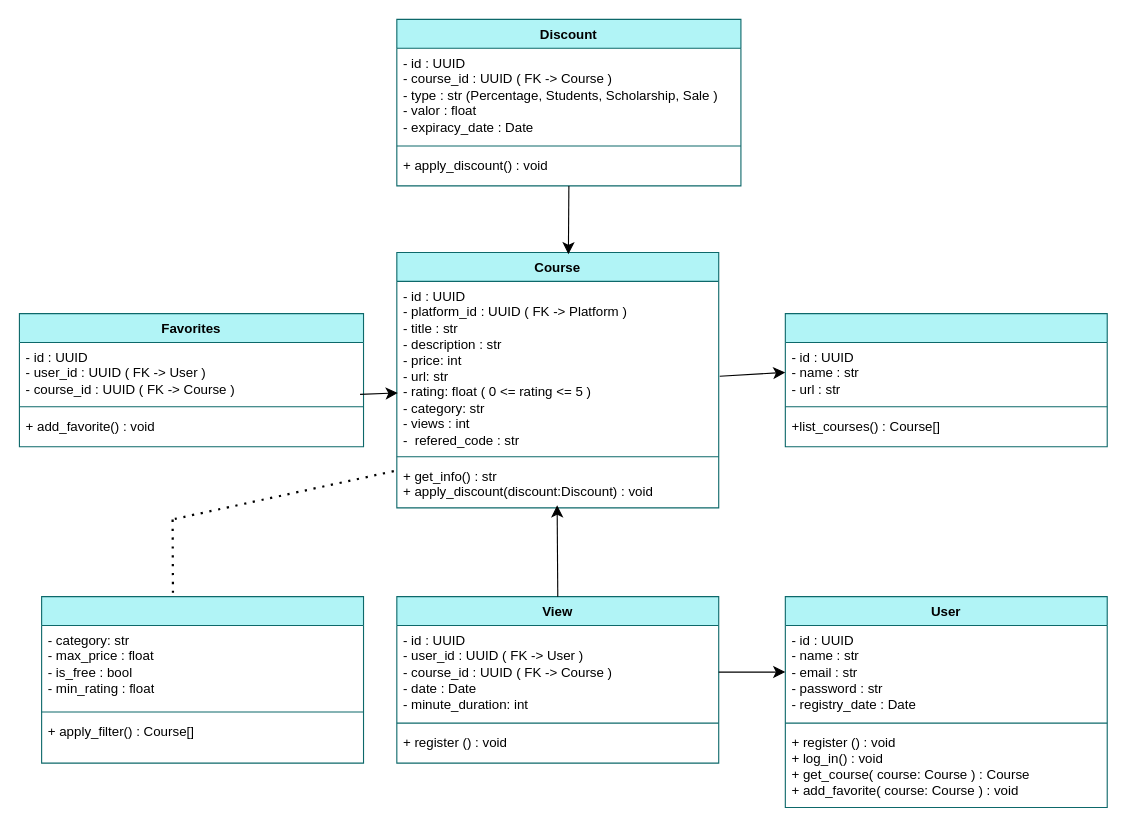
This 1127x830 diagram has some shape labels left out. Here are the shapes that lost their labels. From the top down, the box of each, then its label:
(784, 312, 1107, 447): Platform
(41, 596, 364, 763): SearchFilter
